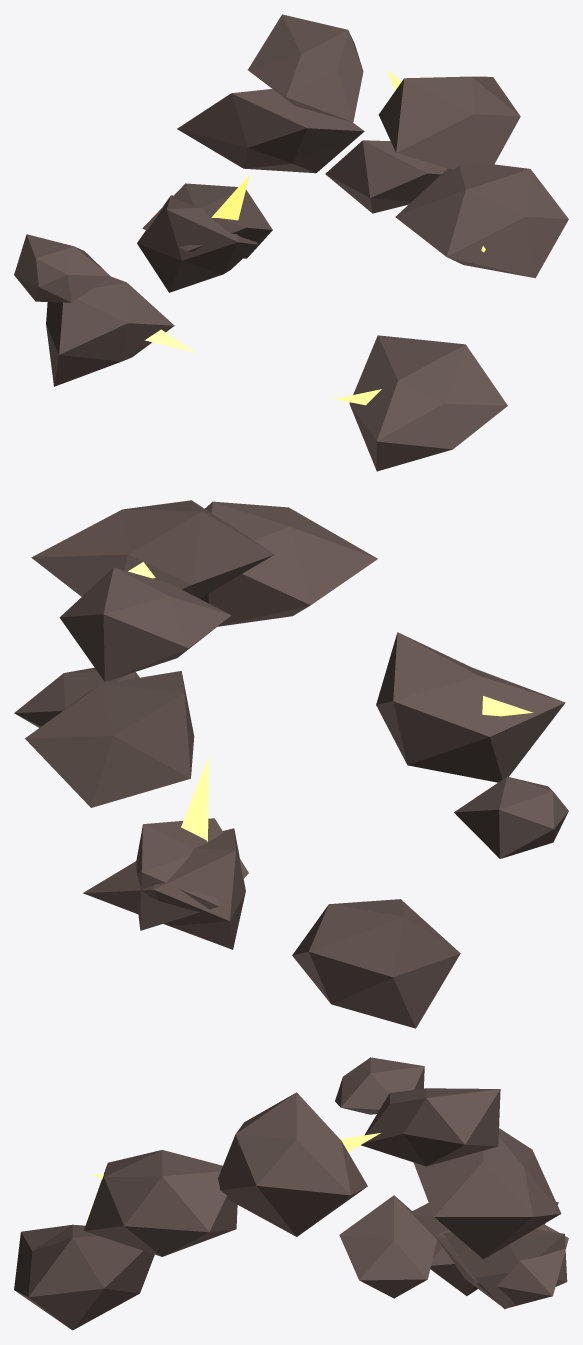
File: ob_ember1.glb
The picture shows the model from 3 angles, top to bottom: view 1: azimuth 30°, elevation 25°; view 2: azimuth 150°, elevation 25°; view 3: azimuth 270°, elevation 25°; orthographic projection. The views are drawn at different scales.
Size of the model in its own units: 1.28 by 0.8152 by 1.34.
